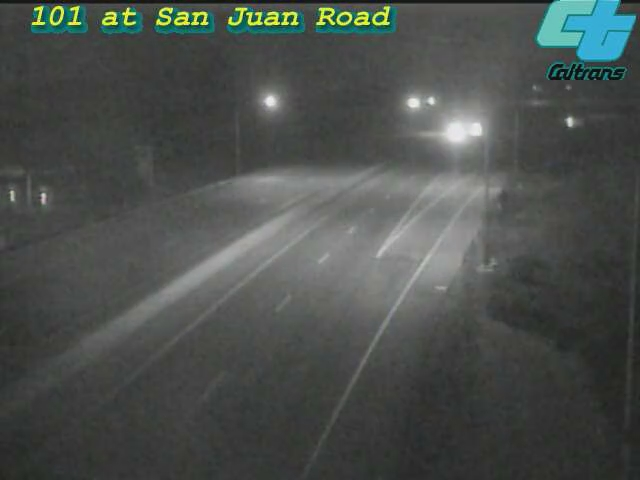vehicle: (545, 97, 595, 147), (429, 106, 479, 156), (448, 104, 498, 154)
